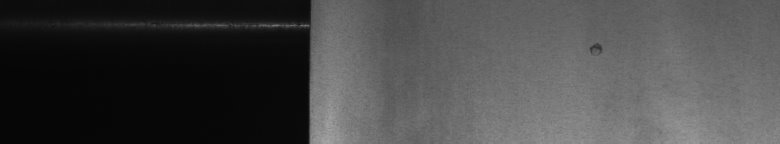fi: (588, 36, 606, 61)
